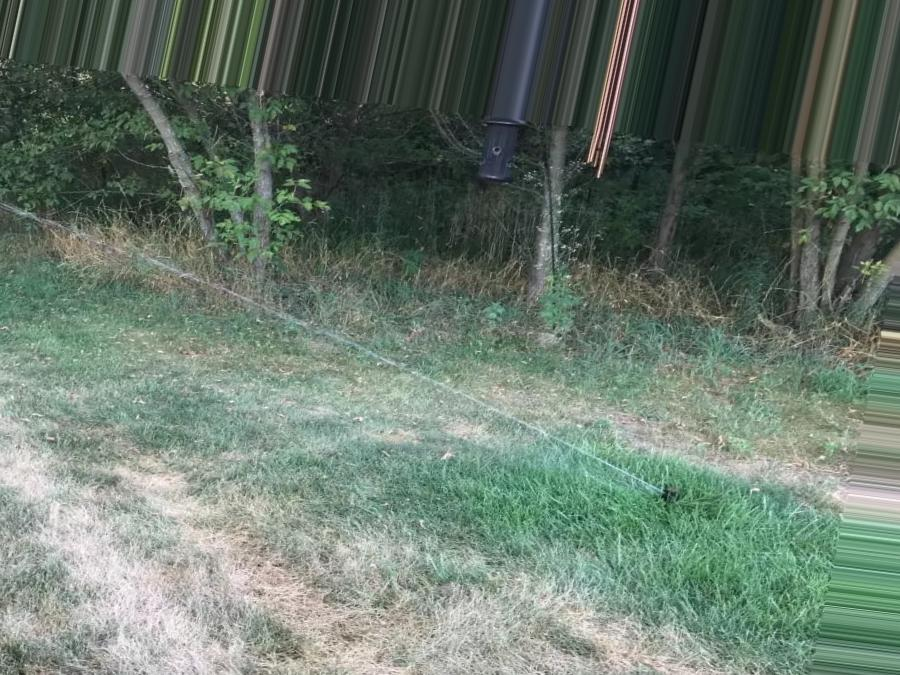patch: (36, 475, 161, 663), (197, 500, 319, 625)
